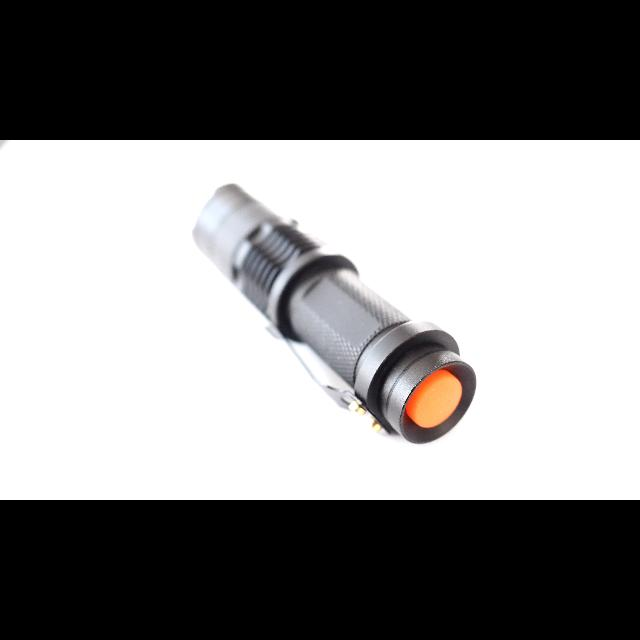Flashlight: (188, 178, 480, 448)
